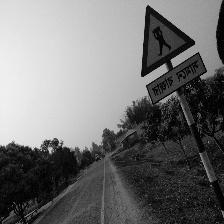Market-in-front: (139, 3, 208, 105)
